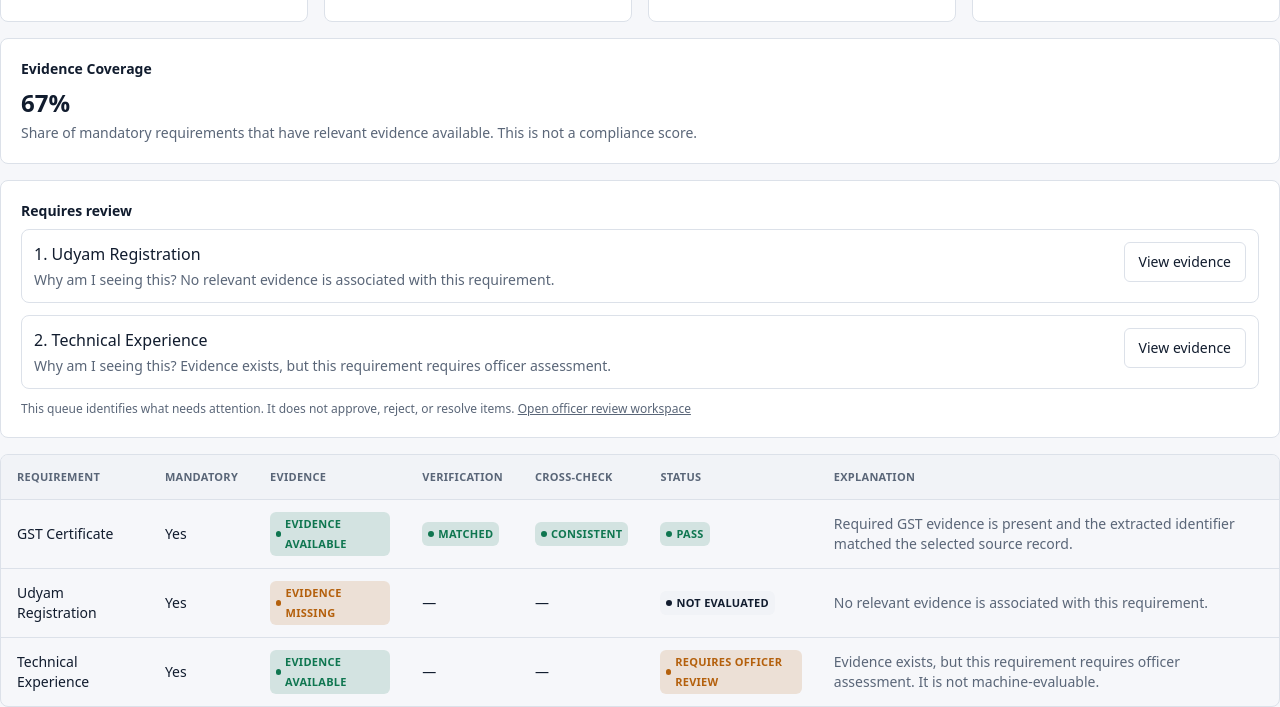
BidRequirementsPanel › opens requirement detail with evidence, verification, and pass explanation
(page scrolled)
Click the text "GST Certificate".
click(75, 534)  # box [1,500,149,568]
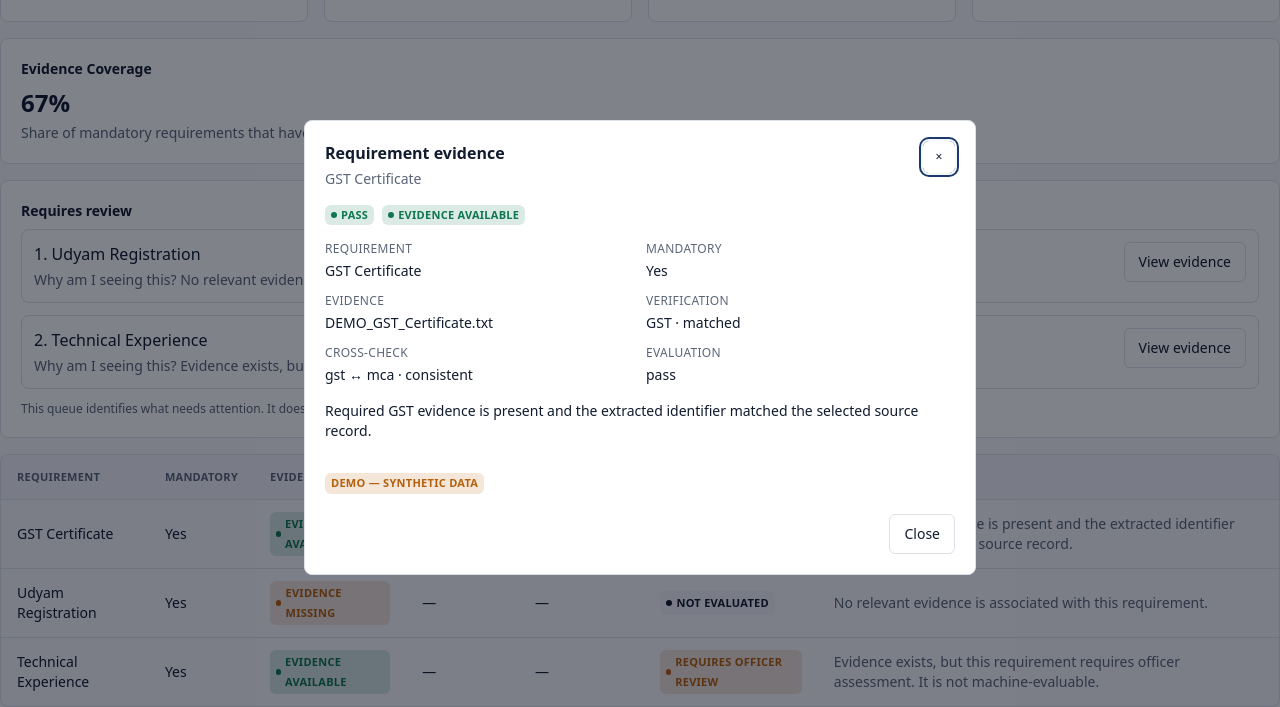
Expected: the heading "Requirement evidence" is shown, [325,140,505,164]
Expected: the text "DEMO_GST_Certificate.txt" is shown, [325,313,493,332]
Expected: the text "DEMO — SYNTHETIC DATA" is shown, [325,473,484,494]
